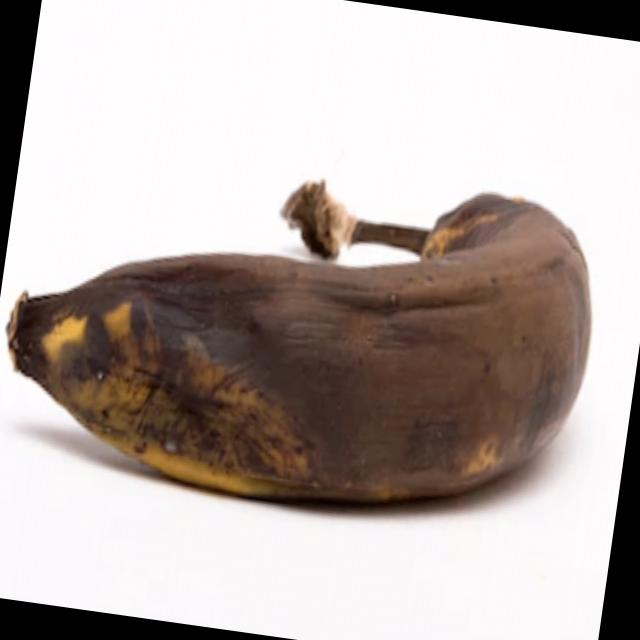rotten-banana: (0, 117, 611, 544)
